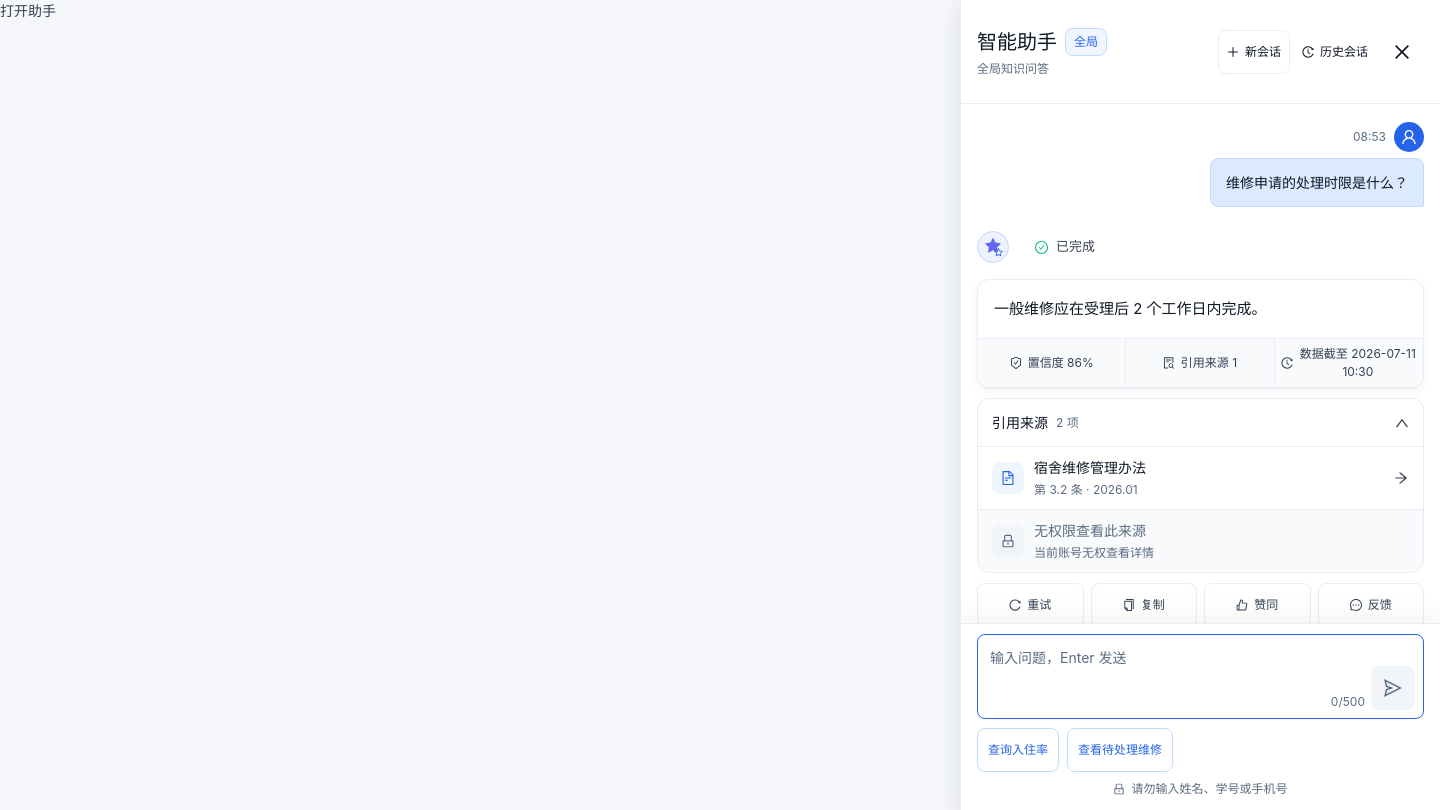
Test case: AiAssistantHost › 授权引用使用键盘可达按钮按 ACL 加载纯文本详情，撤权引用保持静态
Click the button with aria-label "查看引用详情：宿舍维修管理办法".
click(1008, 478)  # box [978,447,1423,509]
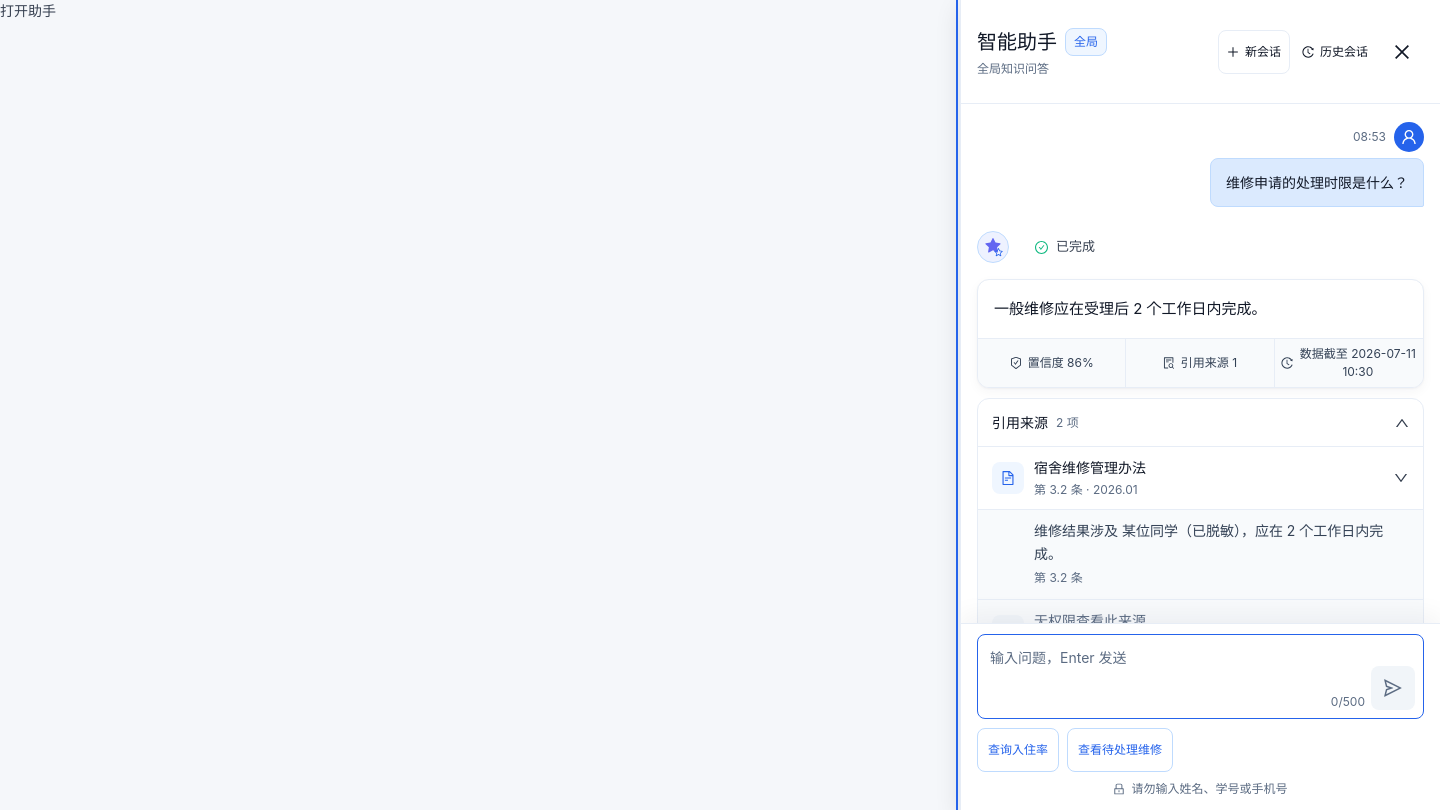
Expected: the button with aria-label "查看引用详情：宿舍维修管理办法" is expanded, [978,447,1423,509]
Expected: the element showing "维修结果涉及 某位同学（已脱敏），应在 2 个工作日内完成。 第 3.2 条" is shown, [978,509,1423,599]
